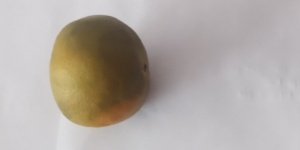BAD: (48, 13, 154, 133)
